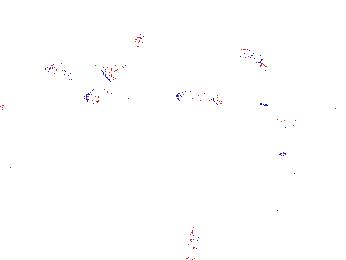X-ray fish: (87, 84, 124, 108), (186, 222, 202, 260)
glassfish: (279, 180, 346, 213)
red belly glassfish: (245, 45, 269, 71), (132, 22, 150, 49)
redtail glassfish: (43, 58, 120, 85), (257, 98, 315, 133), (175, 87, 226, 112)
